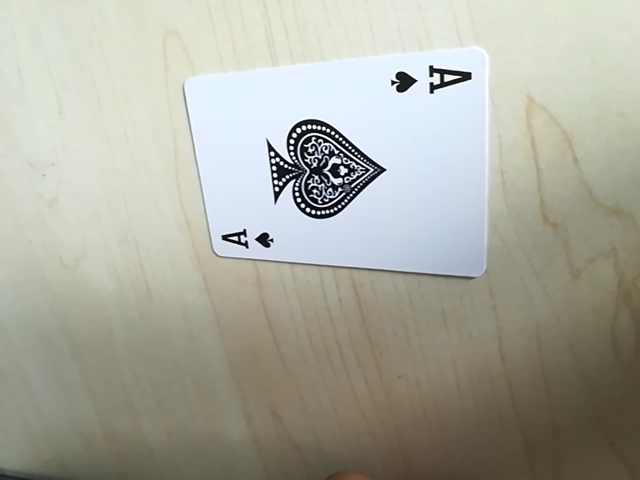ht a: (388, 56, 474, 104), (210, 223, 280, 258)
